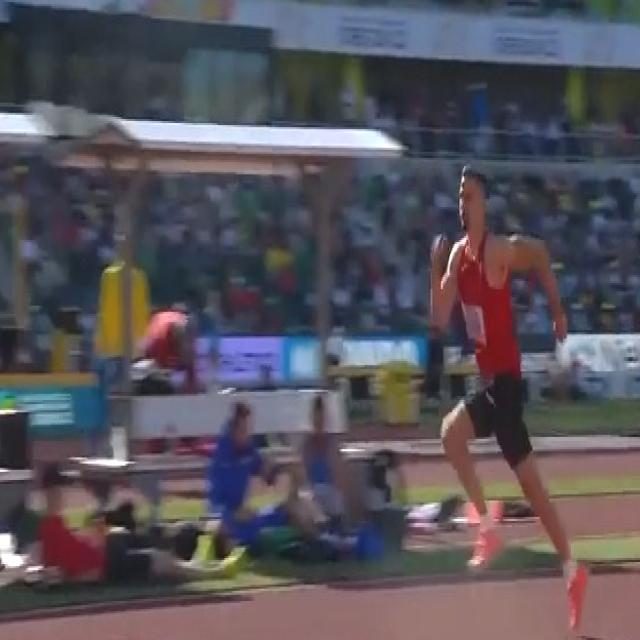run: (423, 159, 587, 631)
